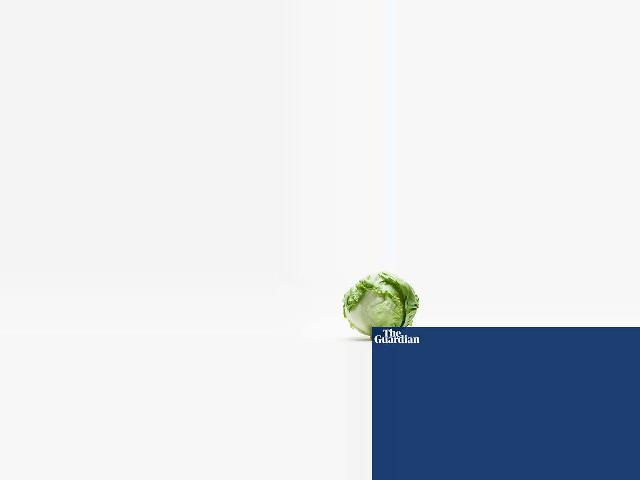lettuce: (343, 268, 417, 335)
